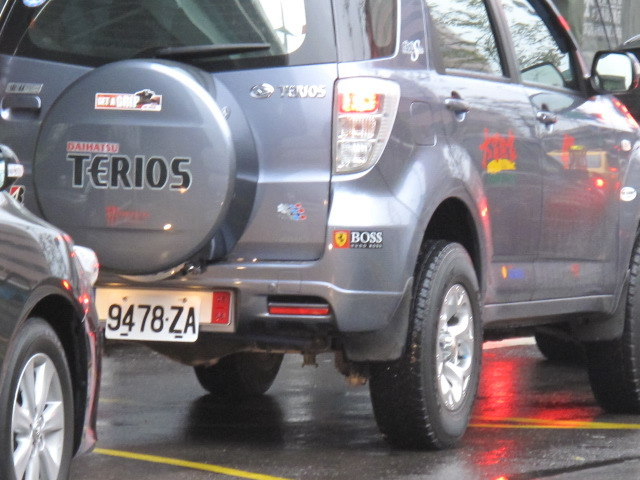plate: (98, 292, 203, 348)
